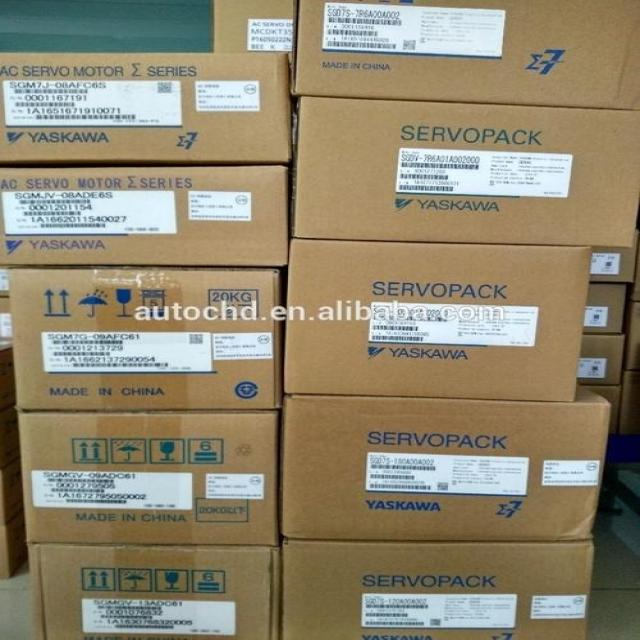box: (289, 97, 640, 247), (280, 381, 612, 539), (282, 238, 594, 401), (6, 266, 282, 411), (291, 0, 640, 110), (18, 409, 279, 545), (0, 53, 292, 163), (282, 539, 595, 640), (0, 165, 288, 267), (27, 544, 282, 640), (212, 0, 292, 52), (580, 334, 625, 385), (585, 283, 627, 334), (590, 247, 637, 281)
